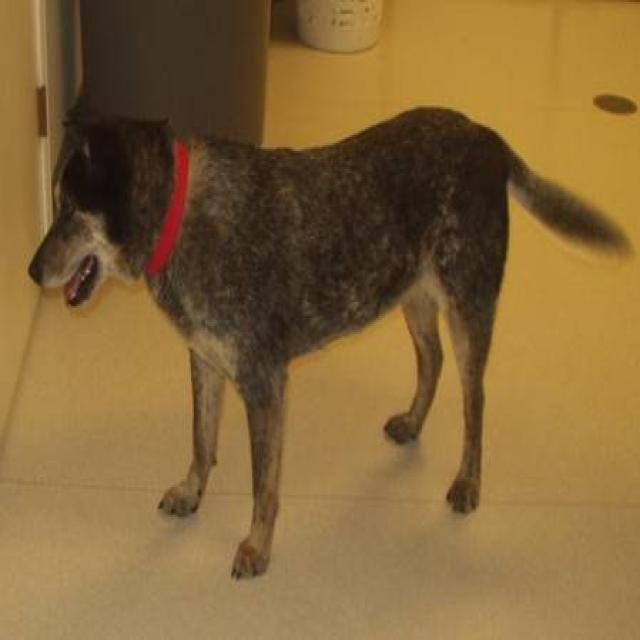dog: (27, 94, 633, 580)
